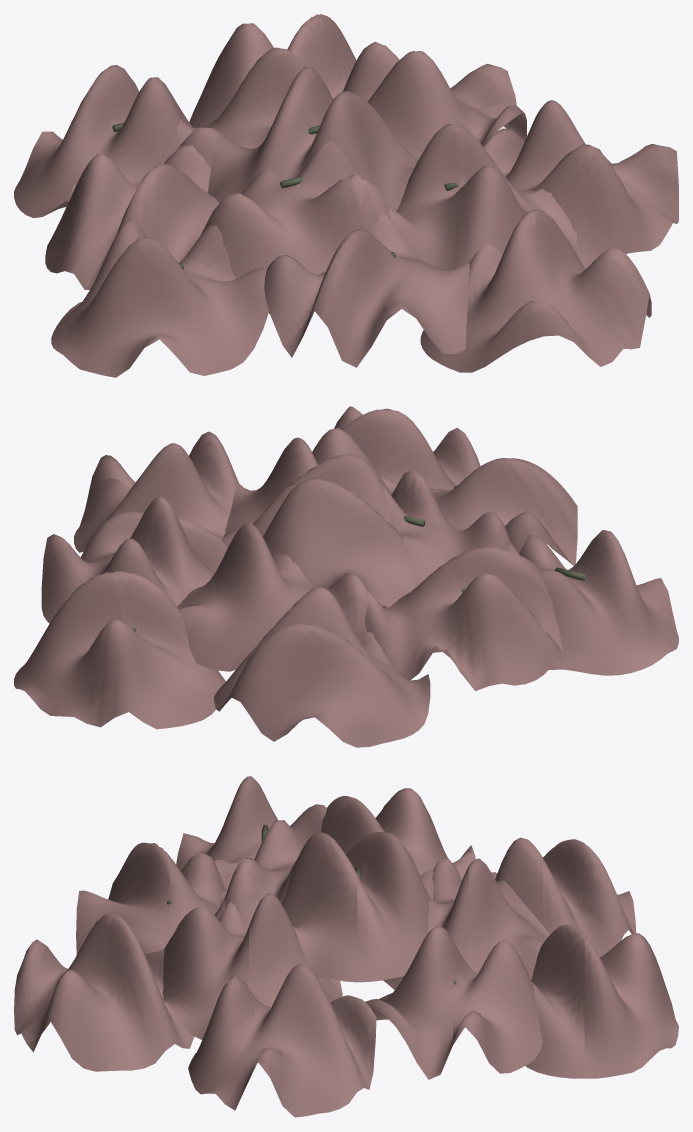
Rendered from acanth-mobile.glb.
3 views of the same model, one above another, from view 1: azimuth 30°, elevation 25°; view 2: azimuth 150°, elevation 25°; view 3: azimuth 270°, elevation 25° (orthographic). The views are drawn at different scales.
Visible parts, largest first — view 1: inflated-corallite; view 2: inflated-corallite; view 3: inflated-corallite.
Part boxes in pixels (x1,y1,x2,y2): inflated-corallite: [14, 14, 678, 377]; inflated-corallite: [14, 406, 678, 747]; inflated-corallite: [14, 776, 678, 1117].
Size of the model in its own units: 0.5917 by 0.1587 by 0.6072.
